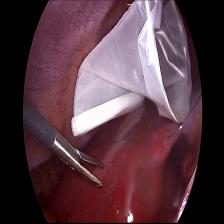Grasper: (56, 133, 106, 191)
Specimen Bag: (69, 0, 196, 140)
